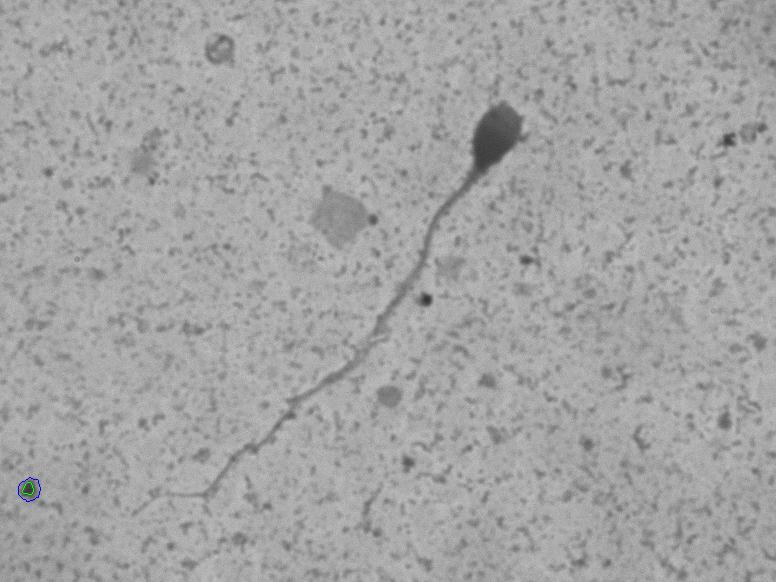Normal: (118, 89, 538, 523)
